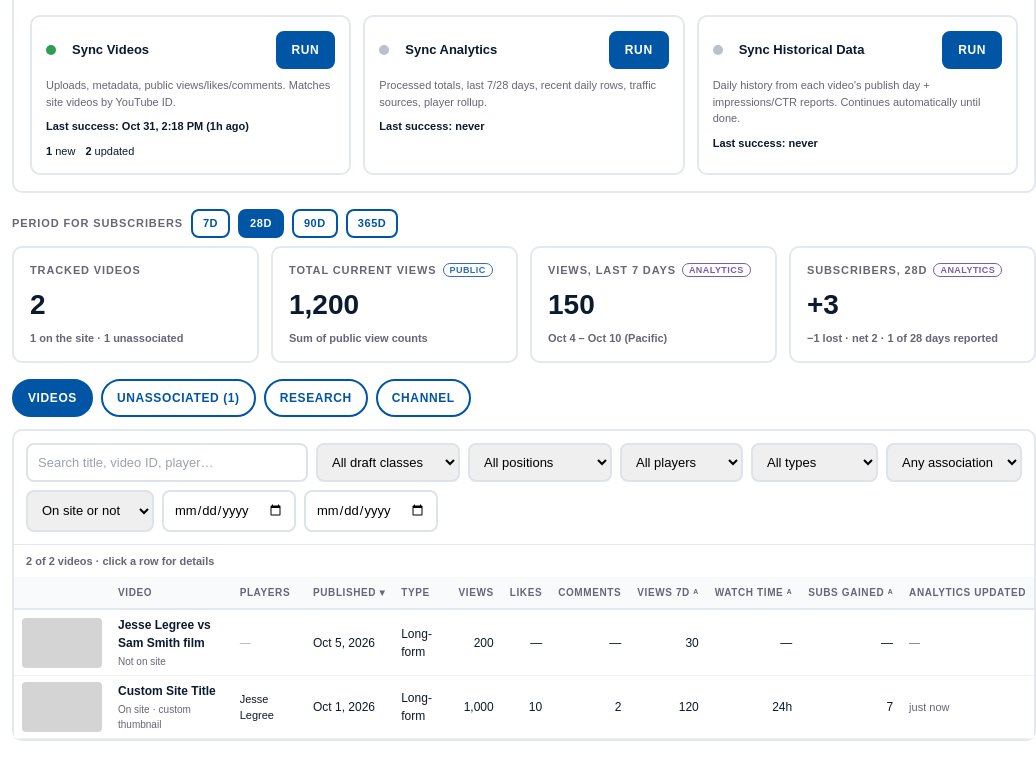
Players tab is gone; Videos can be filtered by draft class
(page scrolled)
expect the text "Custom Site Title" is shown: met, box [118,682,224,700]
Select "No player tagged" in the dropdown titled "Draft class of the tagged players": (388,462) [316,442,460,482]
(page scrolled)
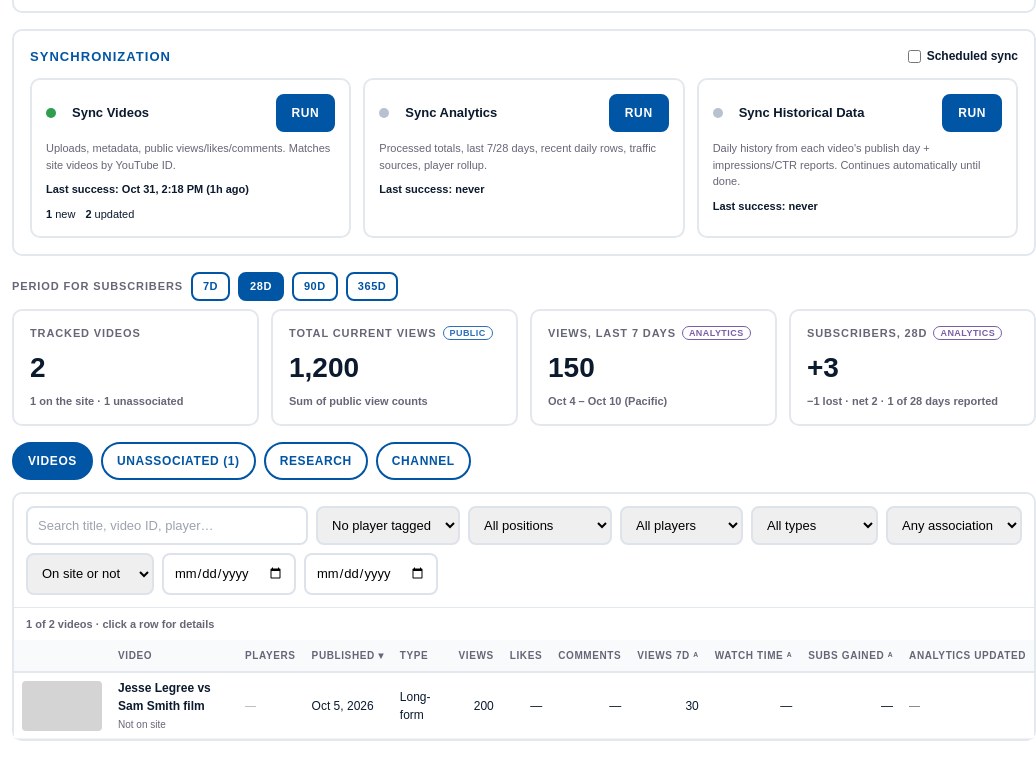
expect the text "Jesse Legree vs Sam Smith film" is shown: met, box [118,681,211,713]
expect the text "Custom Site Title" is gone: met
Select "2027 class" in the dropdown titled "Draft class of the tagged players": (388,525) [316,506,460,545]
(page scrolled)
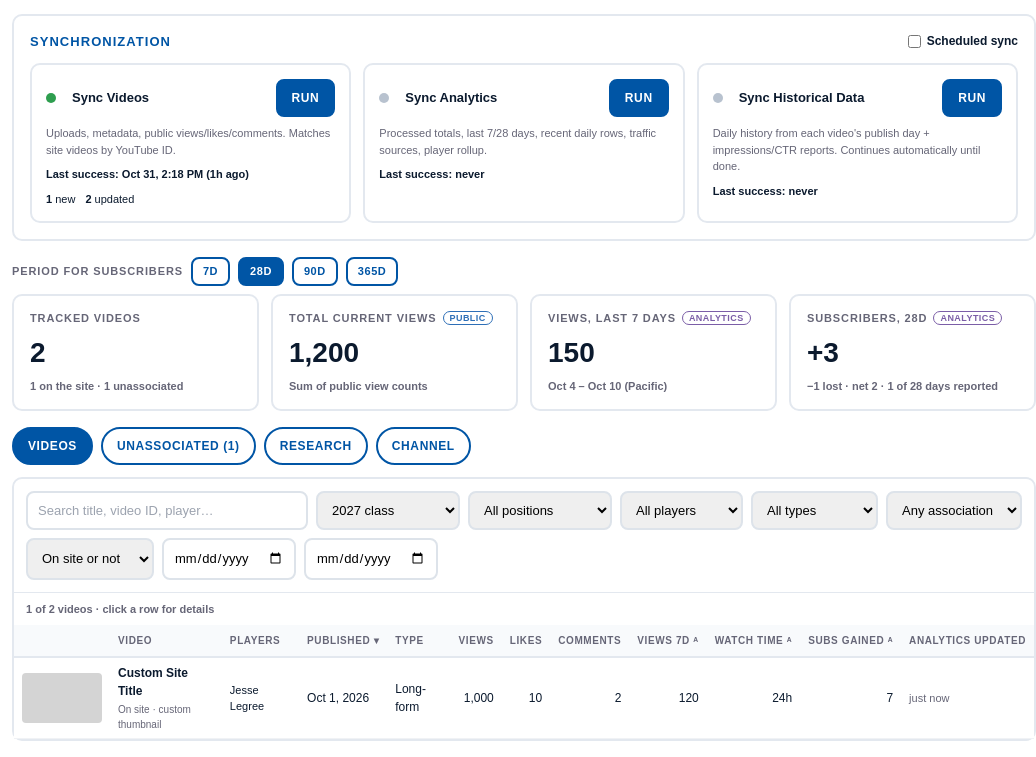
expect the text "Custom Site Title" is shown: met, box [118,666,188,698]
expect the text "Jesse Legree vs Sam Smith film" is gone: met
